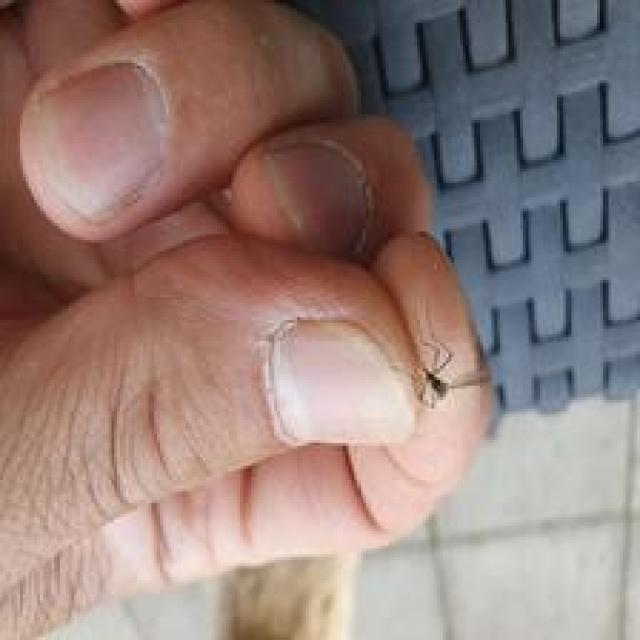Culex: (408, 337, 492, 409)
